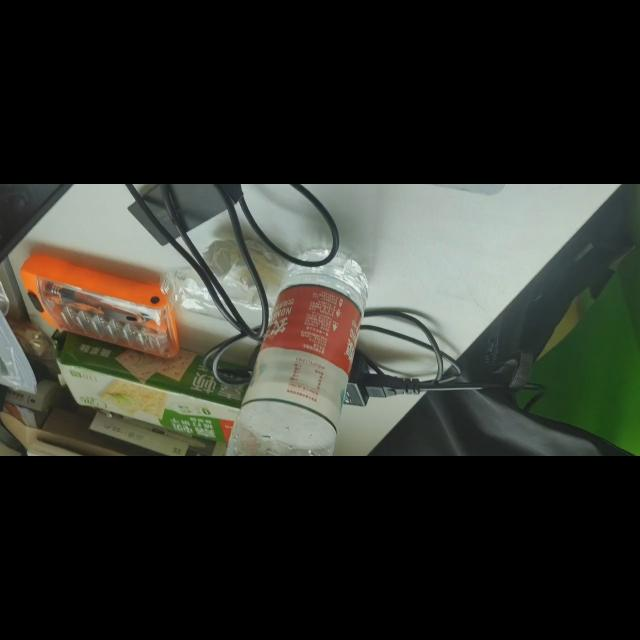trash: (225, 246, 372, 457)
